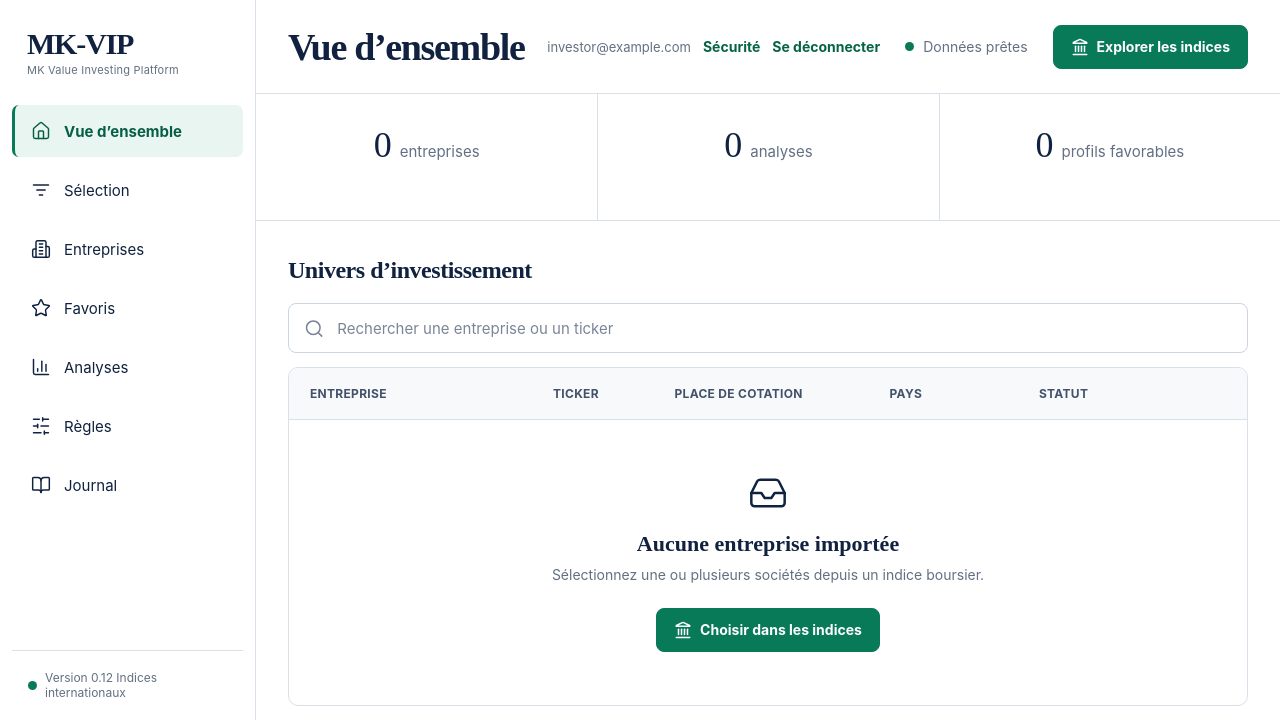
it: MK-VIP authentication › adds selected CAC Next 20 constituents without entering a ticker
Click the button "Explorer les indices" at (1150, 46), box [1053,24,1248,68]
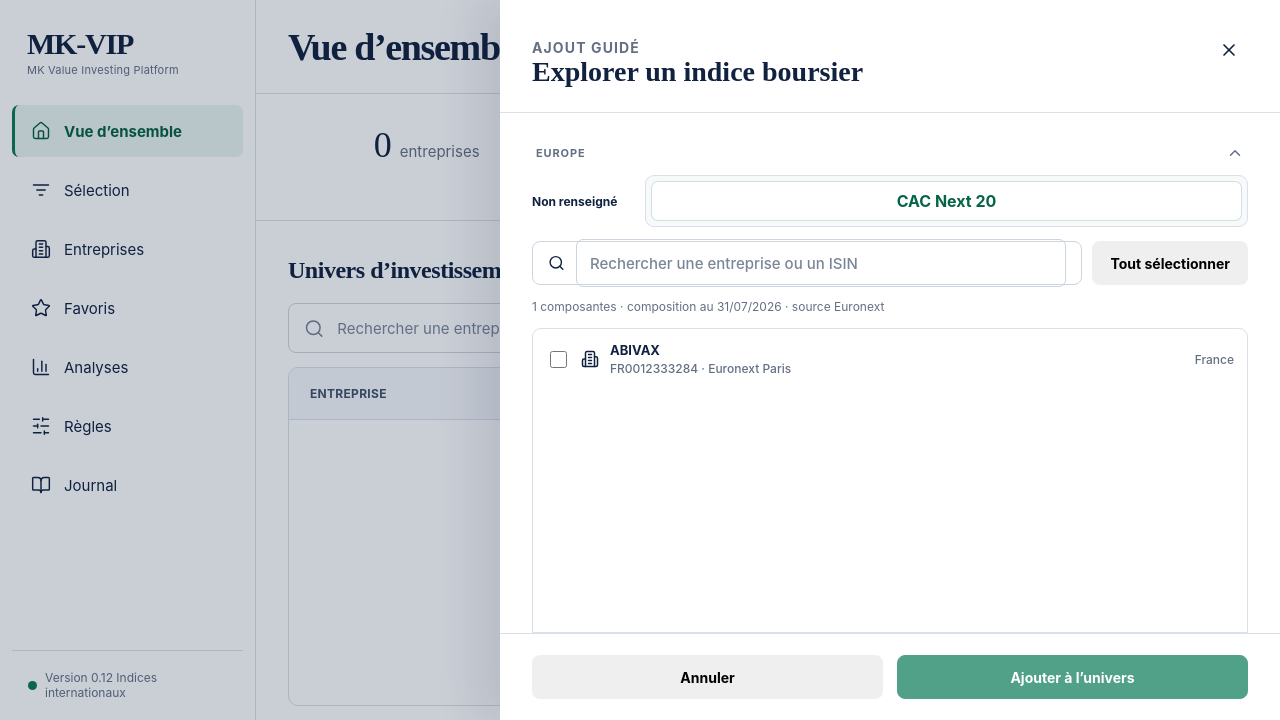
Click the checkbox at (558, 359), box [550,350,567,368]
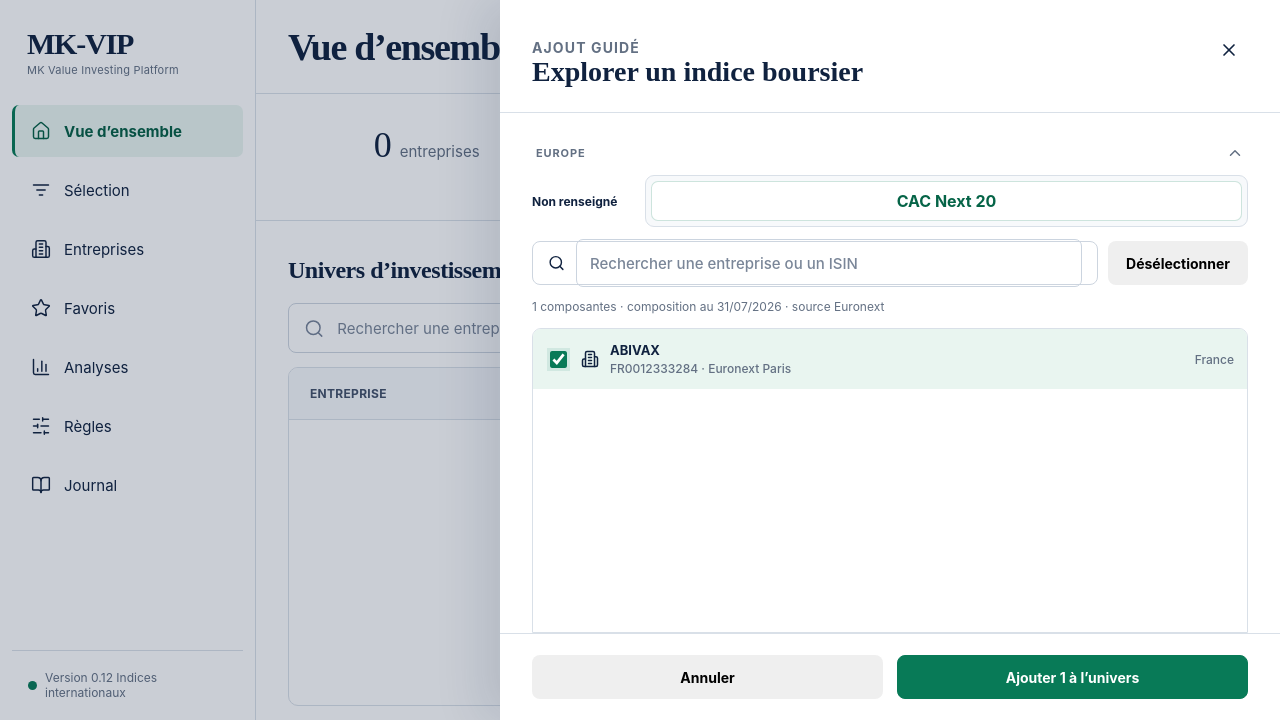
Click the button "Ajouter 1 à l’univers" at (1072, 677), box [897,655,1248,699]
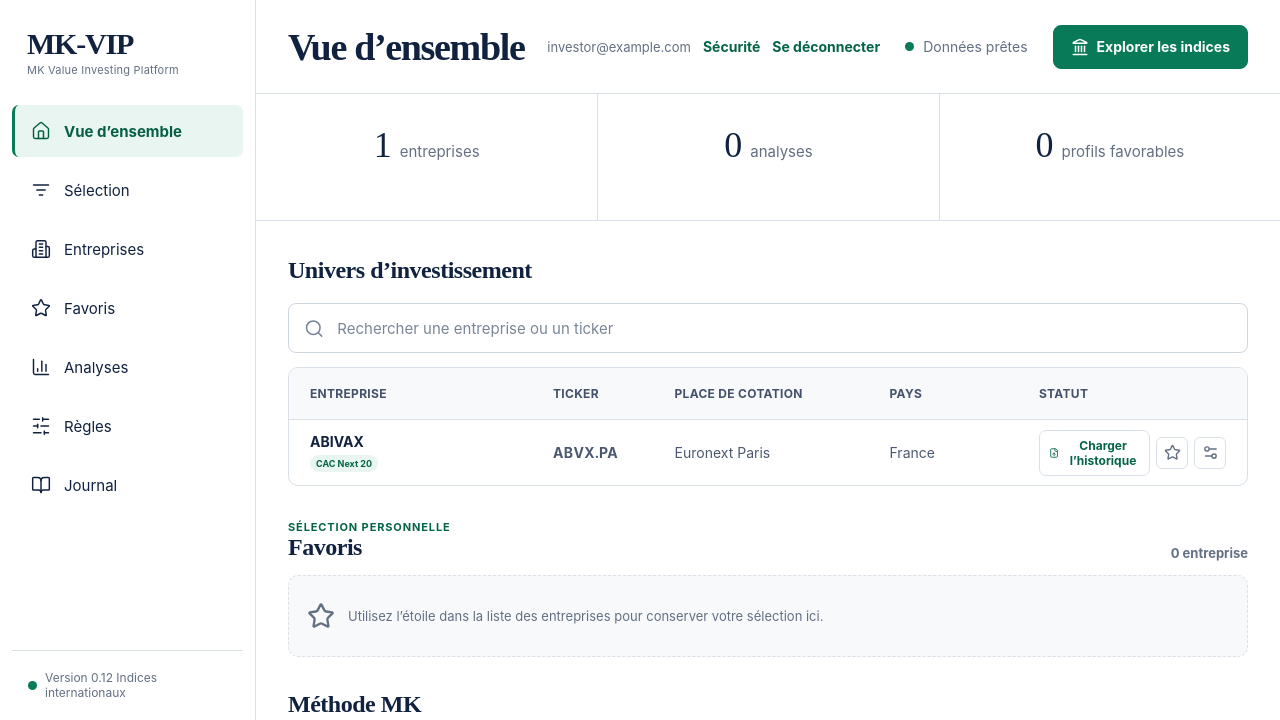
Result: the text "ABVX.PA" is shown at [553,444,618,461]
